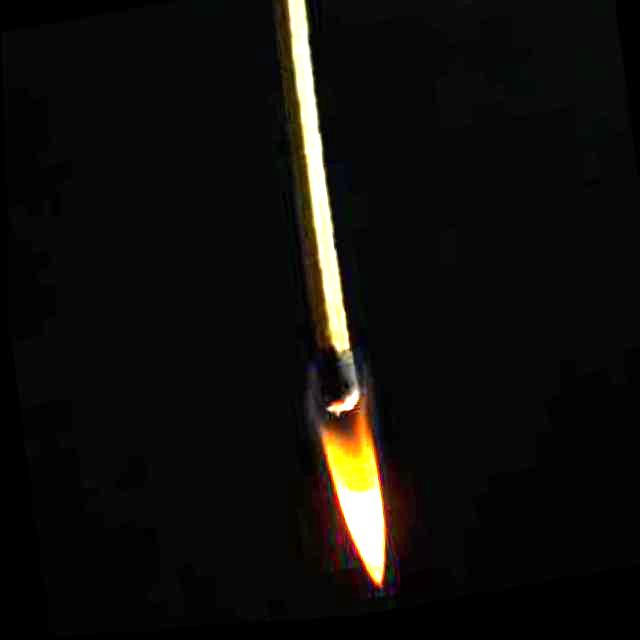fire: (307, 381, 407, 623)
